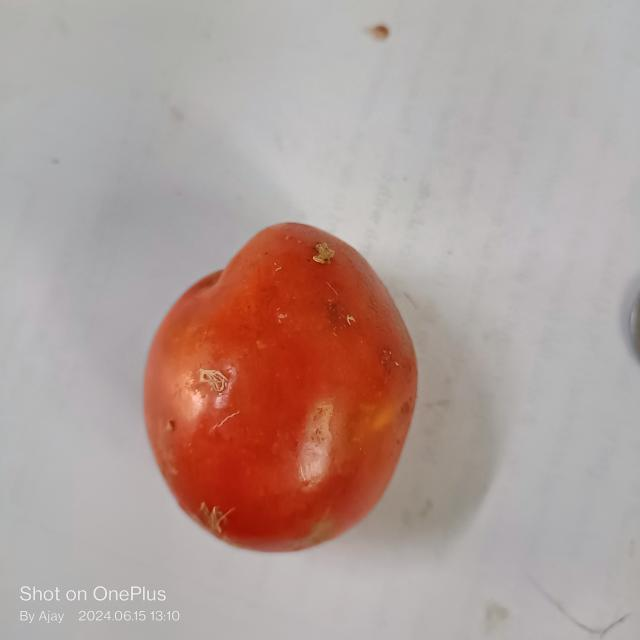Bacterial_Spot: (305, 238, 343, 270)
